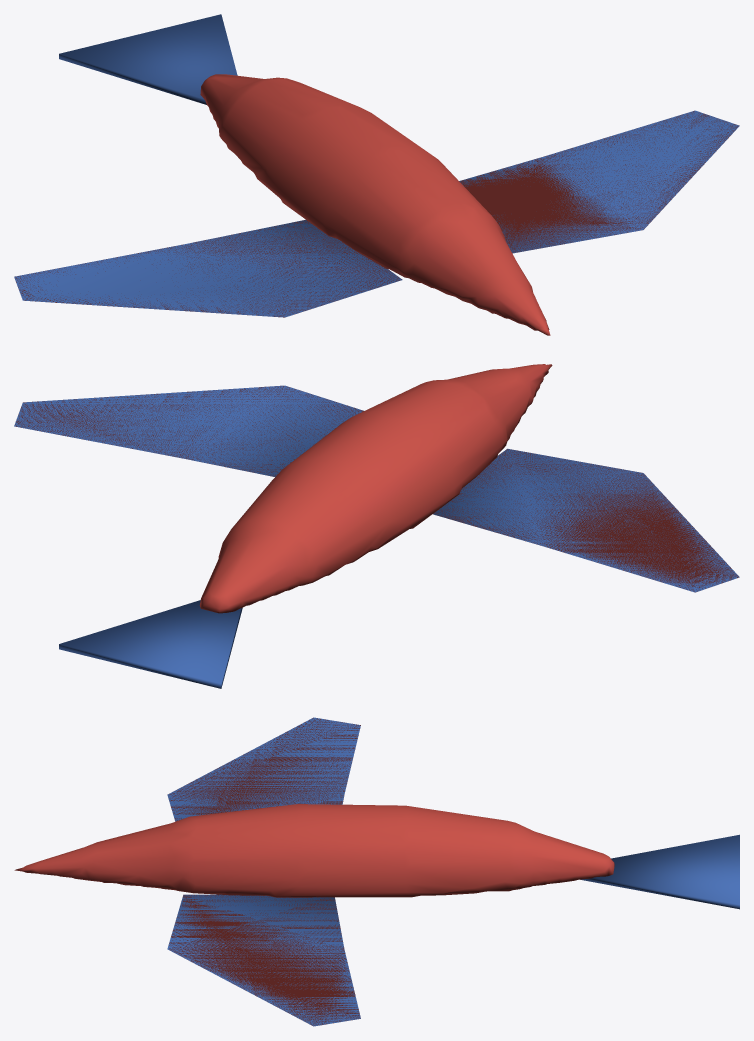
File: ara.glb
The picture shows the model from 3 angles, top to bottom: view 1: azimuth 30°, elevation 25°; view 2: azimuth 150°, elevation 25°; view 3: azimuth 270°, elevation 25°; orthographic projection. The views are drawn at different scales.
Parts seen in each view (by area): view 1: lack; view 2: lack; view 3: lack.
Boxes of the visible parts, box(x1,y1,x2,y2) form: lack: box(14, 14, 739, 335); lack: box(14, 364, 739, 688); lack: box(14, 717, 739, 1026).
Size of the model in its own units: 1.05 by 0.1014 by 1.04.
